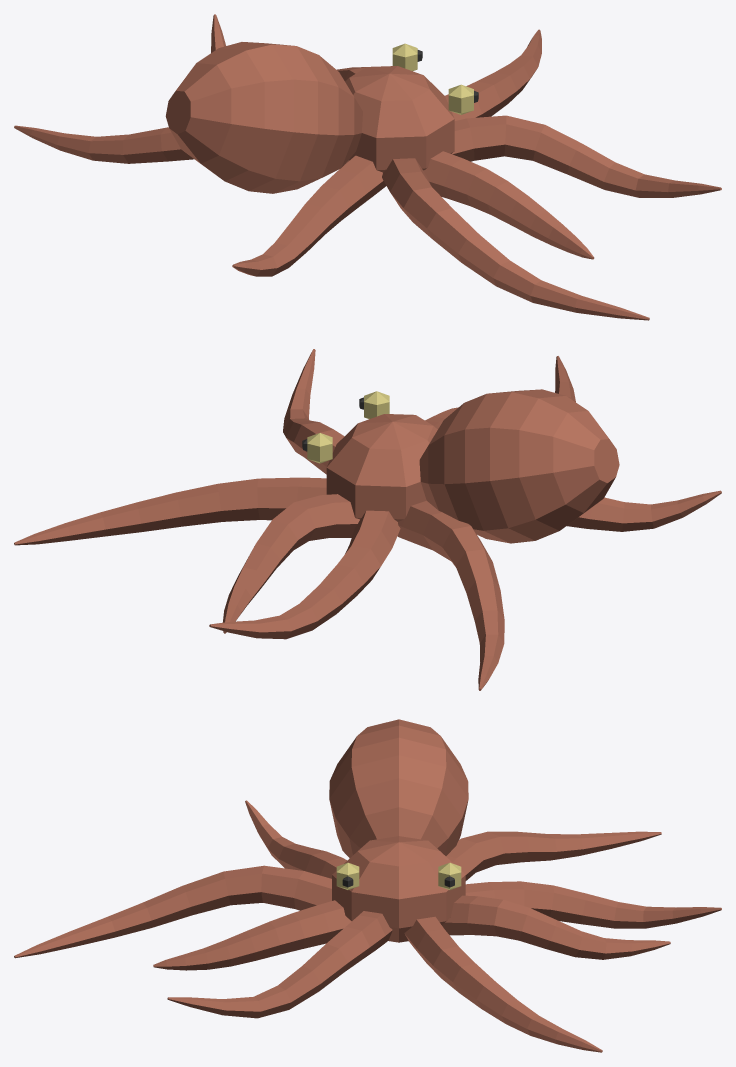
File: giant_pacific_octopus.glb
3 renders of one model, top to bottom at view 1: azimuth 30°, elevation 25°; view 2: azimuth 150°, elevation 25°; view 3: azimuth 270°, elevation 25°, orthographic. The views are drawn at different scales.
Parts seen in each view (by area): view 1: giant_pacific_octopus; view 2: giant_pacific_octopus; view 3: giant_pacific_octopus.
Boxes of the visible parts, bbox=[...] form: giant_pacific_octopus: bbox=[14, 14, 721, 320]; giant_pacific_octopus: bbox=[14, 349, 721, 690]; giant_pacific_octopus: bbox=[14, 719, 721, 1052].
Bounding box in the file's own units: 2.07 × 0.657 × 2.78.
